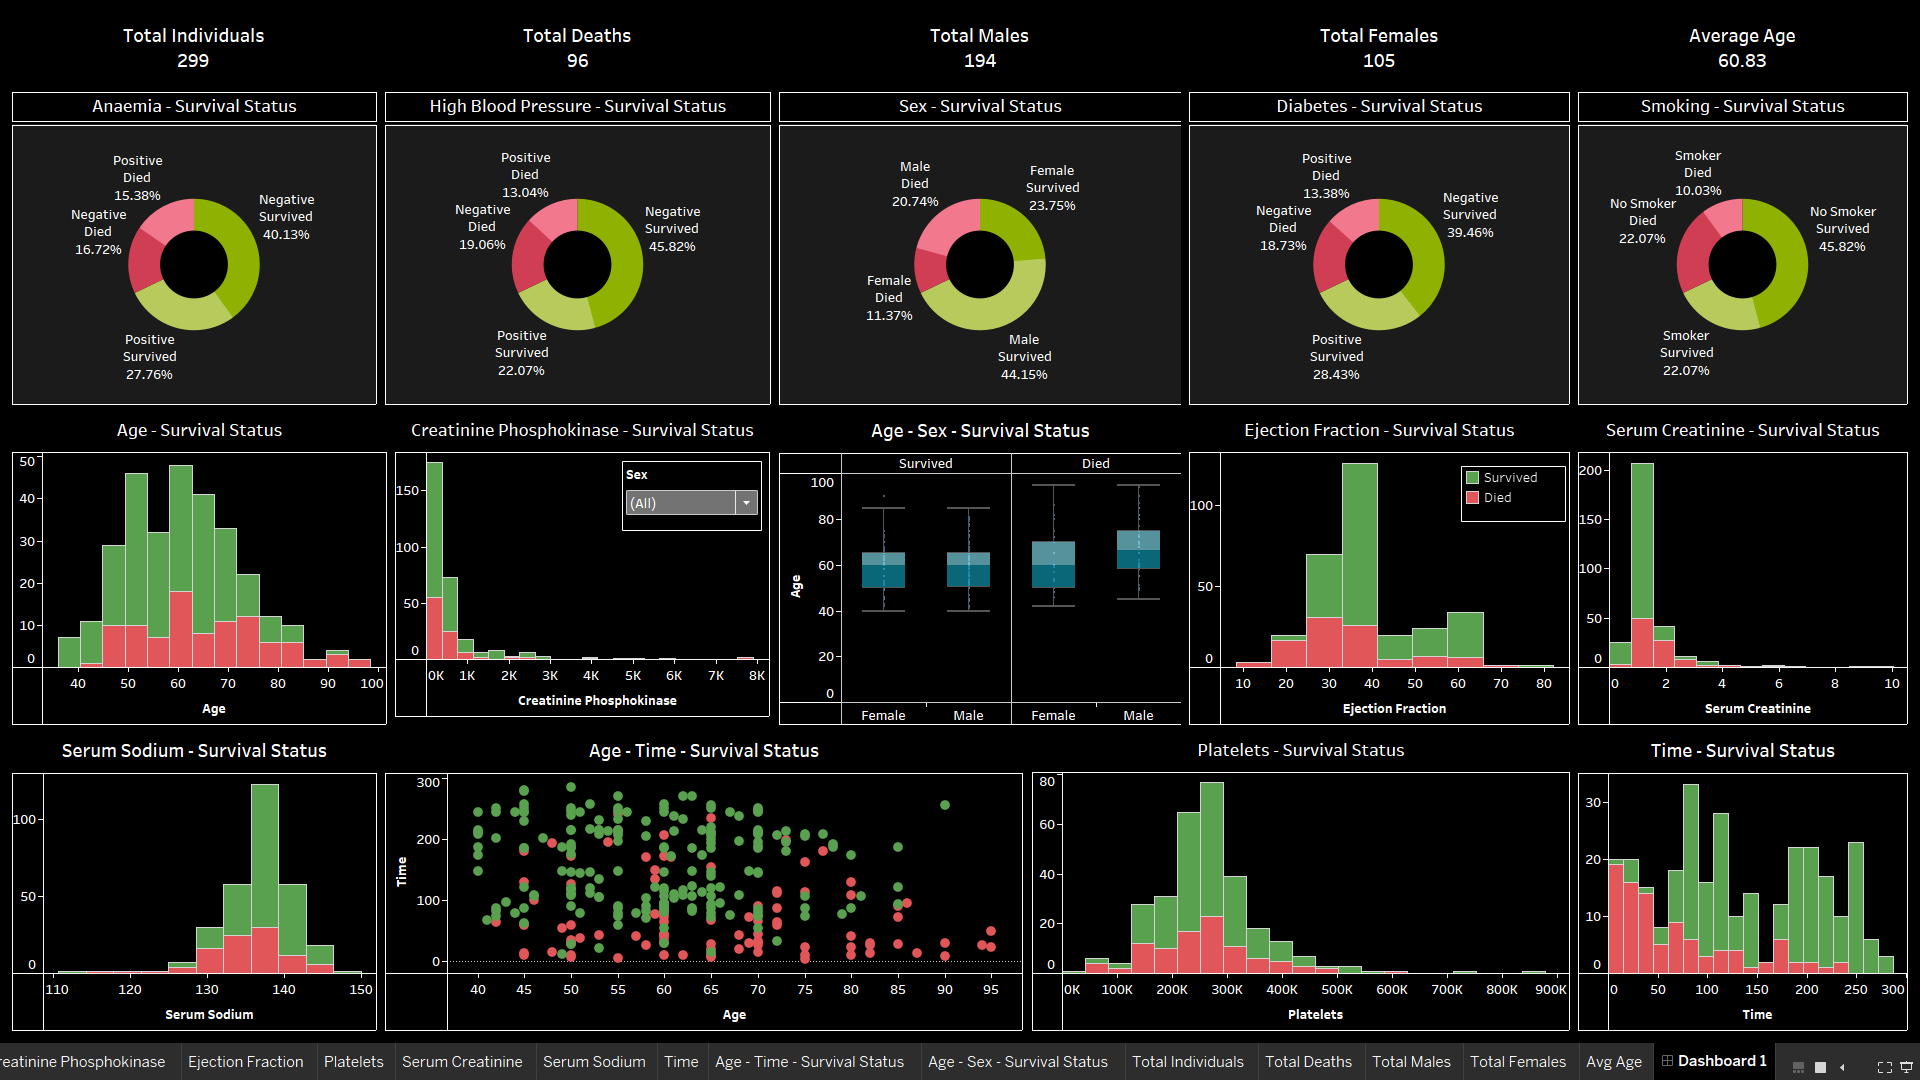

The page's visual inventory and layout, read from the dashboard file:
{"tool":"tableau","page":{"name":"Dashboard 1","canvas":[1000,1000],"units":"permille","ordinal":0},"visuals":[{"type":"worksheet","box":[0,0,1000,1000]},{"type":"worksheet","param":"horz","box":[4.8,9.4,990.3,981.2]},{"type":"worksheet","param":"horz","box":[4.8,9.4,990.3,981.2]},{"type":"worksheet","param":"horz","box":[4.8,9.4,990.3,981.2]},{"type":"worksheet","box":[4.8,9.4,990.3,981.2]},{"type":"worksheet","title":"Total Individuals","mark":"Automatic","box":[4.8,9.4,194.1,76.1]},{"type":"worksheet","title":"Total Deaths","mark":"Automatic","box":[198.9,9.4,204.7,76.1]},{"type":"worksheet","title":"Total Males","mark":"Automatic","box":[403.7,9.4,213.5,76.1]},{"type":"worksheet","title":"Total Females","mark":"Automatic","box":[617.1,9.4,202.3,76.1]},{"type":"worksheet","title":"Avg Age","mark":"Automatic","box":[819.4,9.4,175.8,76.1]},{"type":"worksheet","title":"Anaemia","mark":"Pie","rows":["Calculation_1082552773362204673","Calculation_1082552773362204673"],"box":[4.8,85.5,194.1,306.7]},{"type":"worksheet","title":"High BP","mark":"Pie","rows":["Calculation_1082552773362204673","Calculation_1082552773362204673"],"box":[198.9,85.5,204.7,306.7]},{"type":"worksheet","title":"Sex Survival","mark":"Pie","rows":["Calculation_1082552773362204673","Calculation_1082552773362204673"],"box":[403.6,85.5,213.5,306.7]},{"type":"worksheet","title":"Diabetes","mark":"Pie","rows":["Calculation_1082552773362204673","Calculation_1082552773362204673"],"box":[617.2,85.5,202.3,306.7]},{"type":"worksheet","title":"Smoking","mark":"Pie","rows":["Calculation_1082552773362204673","Calculation_1082552773362204673"],"box":[819.4,85.5,175.8,306.7]},{"type":"worksheet","title":"Age-Survival","mark":"Automatic","rows":["age"],"cols":["Age (bin)"],"box":[4.8,392.2,199.3,305.6]},{"type":"worksheet","title":"Creatinine Phosphokinase","mark":"Automatic","rows":["creatinine_phosphokinase"],"cols":["Creatinine Phosphokinase (bin)"],"box":[204.2,392.2,199.5,305.6]},{"type":"worksheet","title":"Age - Sex - Survival Status","mark":"Circle","rows":["age"],"cols":["DEATH_EVENT","sex"],"box":[403.6,392.2,213.5,305.6]},{"type":"worksheet","title":"Ejection Fraction","mark":"Automatic","rows":["ejection_fraction"],"cols":["Ejection Fraction (bin)"],"box":[617.1,392.2,202.3,305.6]},{"type":"worksheet","title":"Serum Creatinine","mark":"Automatic","rows":["serum_creatinine"],"cols":["Serum Creatinine (bin)"],"box":[819.4,392.2,175.8,305.6]},{"type":"worksheet","title":"Age - Sex - Survival Status","mark":"Circle","rows":["age"],"cols":["DEATH_EVENT","sex"],"param":"[federated.0vcsfqz0qkqqcl11dzhd11s2lvm0].[none:sex:ok]","box":[324.1,441.8,73,67]},{"type":"worksheet","title":"Age-Survival","mark":"Automatic","rows":["age"],"cols":["Age (bin)"],"param":"[federated.0vcsfqz0qkqqcl11dzhd11s2lvm0].[none:DEATH_EVENT:ok]","box":[761,446.5,54.9,54.1]},{"type":"worksheet","title":"Serum Sodium","mark":"Automatic","rows":["serum_sodium"],"cols":["Serum Sodium (bin)"],"box":[4.8,697.8,194.1,292.8]},{"type":"worksheet","title":"Age - Time - Survival Status","mark":"Shape","rows":["time"],"cols":["age"],"box":[198.9,697.8,336.2,292.8]},{"type":"worksheet","title":"Platelets","mark":"Automatic","rows":["platelets"],"cols":["Platelets (bin)"],"box":[535.2,697.8,284.3,292.8]},{"type":"worksheet","title":"Time","mark":"Automatic","rows":["time"],"cols":["Time (bin)"],"box":[819.4,697.8,175.7,292.8]}]}

Visuals, with their boxes on the dashboard's canvas, which has no fixed pixel size, in thousandths of its width and height (x1, y1, x2, y2). These are canvas units, not pixel positions in the 1920x1080 screenshot, which may show the page scaled, cropped or inside an application window:
worksheet: 0/0/1000/1000
worksheet: 5/9/995/991
worksheet: 5/9/995/991
worksheet: 5/9/995/991
worksheet: 5/9/995/991
"Total Individuals" worksheet: 5/9/199/86
"Total Deaths" worksheet: 199/9/404/86
"Total Males" worksheet: 404/9/617/86
"Total Females" worksheet: 617/9/819/86
"Avg Age" worksheet: 819/9/995/86
"Anaemia" worksheet (Pie marks): 5/86/199/392
"High BP" worksheet (Pie marks): 199/86/404/392
"Sex Survival" worksheet (Pie marks): 404/86/617/392
"Diabetes" worksheet (Pie marks): 617/86/820/392
"Smoking" worksheet (Pie marks): 819/86/995/392
"Age-Survival" worksheet: 5/392/204/698
"Creatinine Phosphokinase" worksheet: 204/392/404/698
"Age - Sex - Survival Status" worksheet (Circle marks): 404/392/617/698
"Ejection Fraction" worksheet: 617/392/819/698
"Serum Creatinine" worksheet: 819/392/995/698
"Age - Sex - Survival Status" worksheet (Circle marks): 324/442/397/509
"Age-Survival" worksheet: 761/446/816/501
"Serum Sodium" worksheet: 5/698/199/991
"Age - Time - Survival Status" worksheet (Shape marks): 199/698/535/991
"Platelets" worksheet: 535/698/820/991
"Time" worksheet: 819/698/995/991
